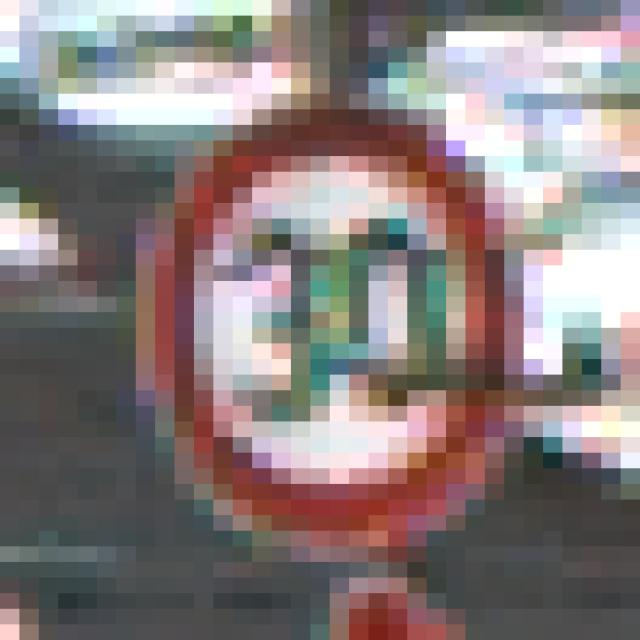Speed Limit -30-: (88, 70, 534, 554)
